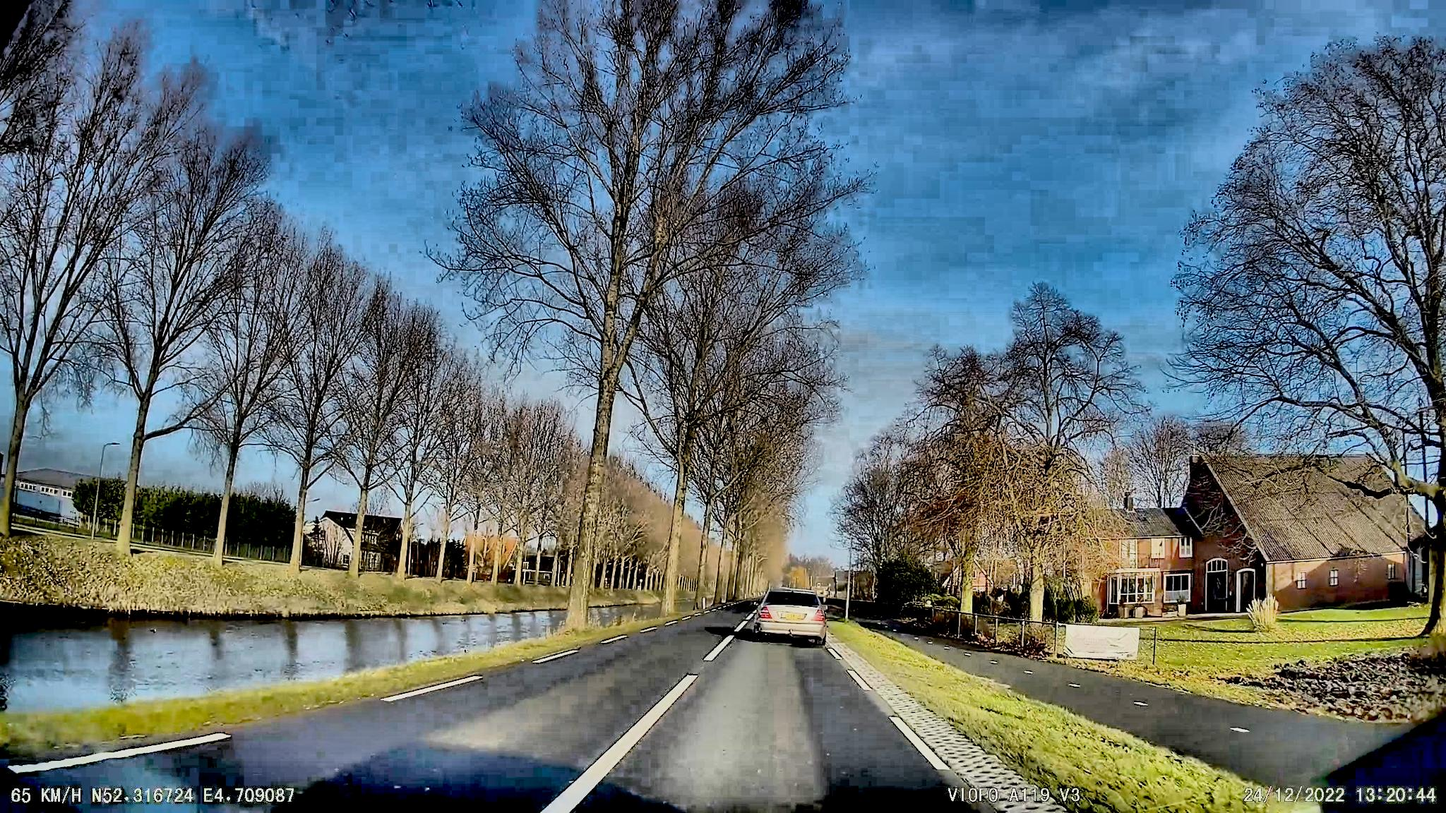Roads: (0, 615, 978, 813)
